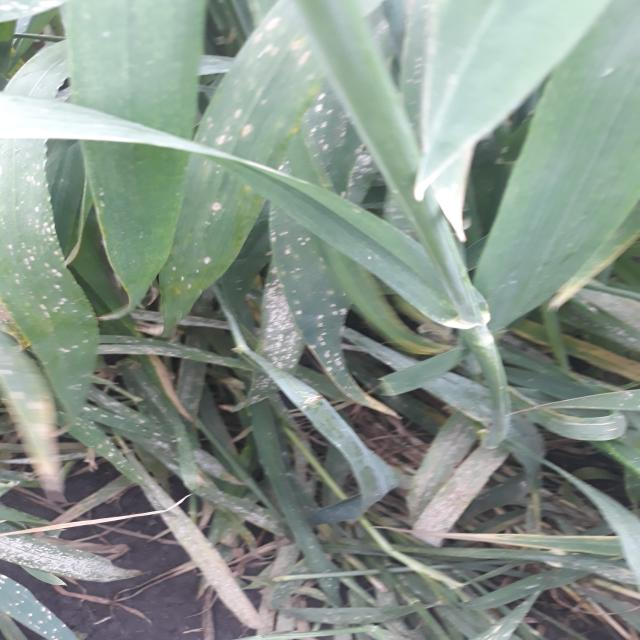powder_mildew: (205, 0, 433, 436), (0, 132, 180, 506), (143, 429, 338, 638), (378, 439, 566, 546), (473, 512, 640, 632), (558, 293, 640, 450), (343, 553, 468, 640), (0, 514, 149, 581), (0, 568, 95, 639)
